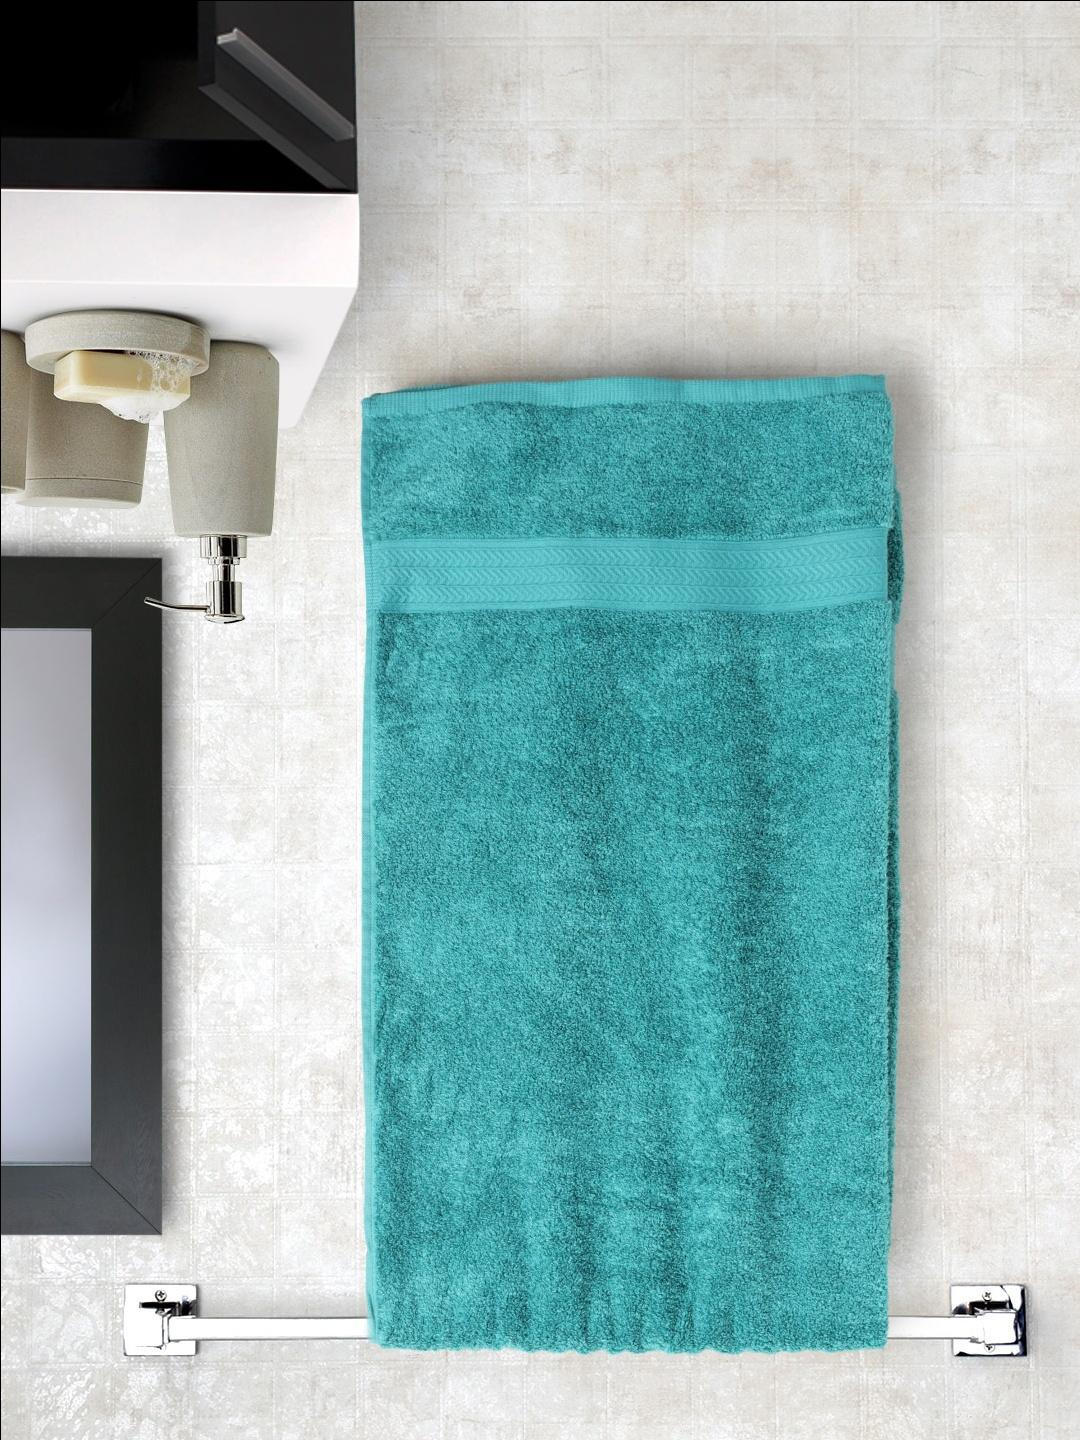towel: (360, 410, 906, 1366)
